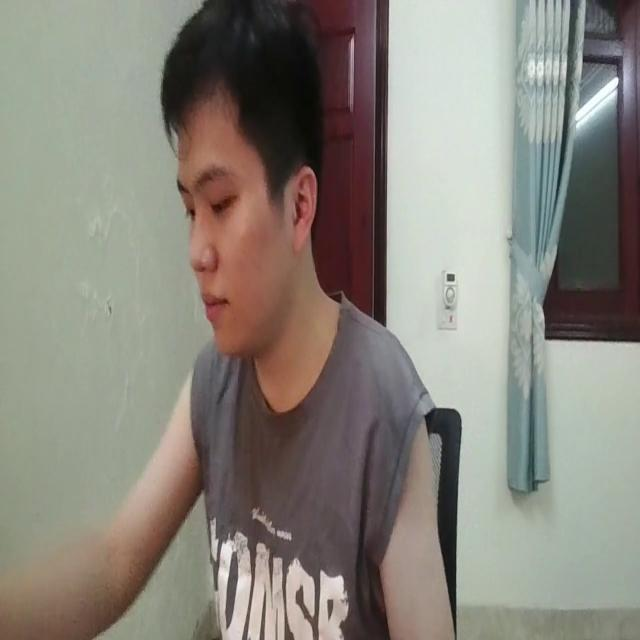student: (53, 4, 450, 640)
